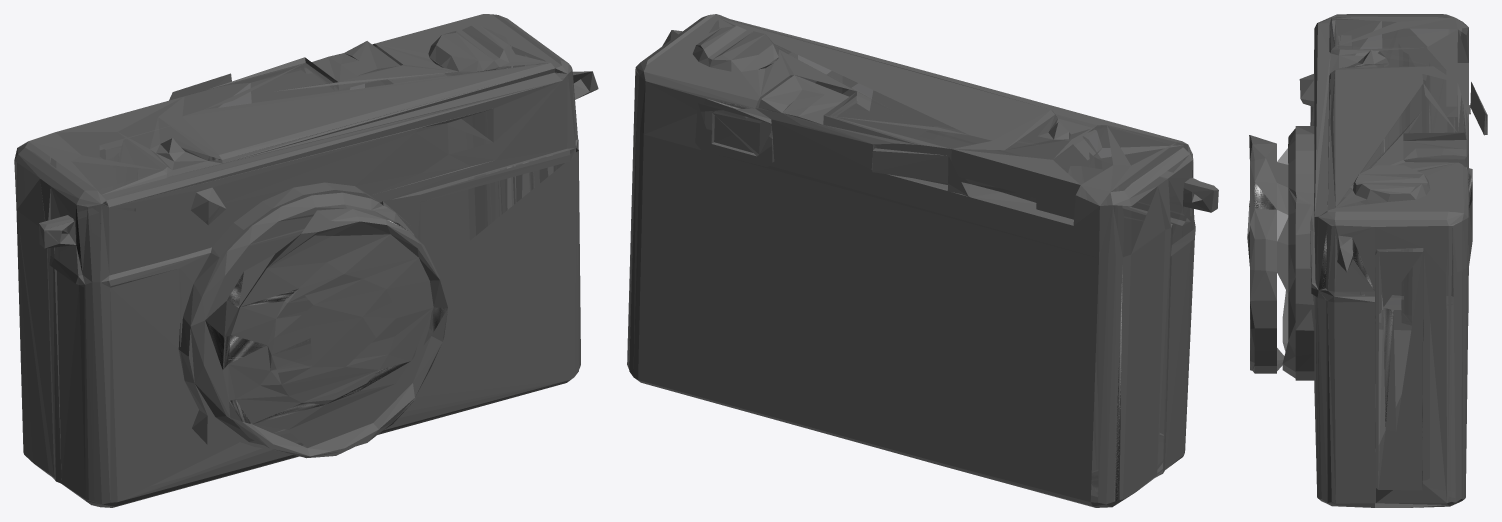
The model's file is model_align.obj.
3 views of the same model, side by side, from view 1: azimuth 30°, elevation 25°; view 2: azimuth 150°, elevation 25°; view 3: azimuth 270°, elevation 25° (orthographic). The views are drawn at different scales.
Bounding box in the file's own units: 0.1296 × 0.0764 × 0.0529.
